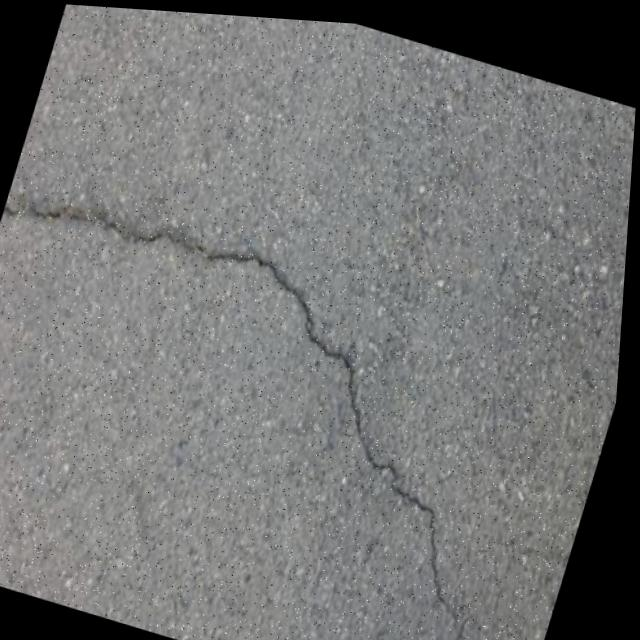Crack: (0, 168, 601, 640)
